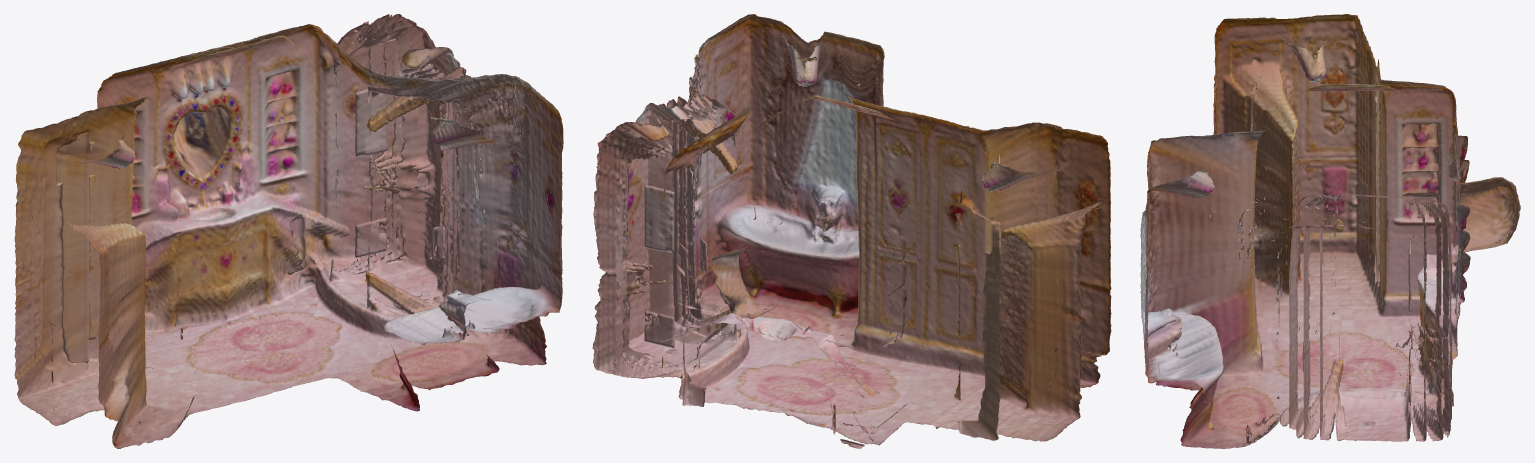
File: jewel-princess-bathroom-1-1-pano_collider.glb
The picture shows the model from 3 angles, left to right: view 1: azimuth 30°, elevation 25°; view 2: azimuth 150°, elevation 25°; view 3: azimuth 270°, elevation 25°; orthographic projection. The views are drawn at different scales.
Parts seen in each view (by area): view 1: world; view 2: world; view 3: world.
Boxes of the visible parts, x1=… form: world: x1=14, y1=14, x2=563, y2=448; world: x1=592, y1=14, x2=1111, y2=448; world: x1=1140, y1=14, x2=1520, y2=448.
Bounding box in the file's own units: 5.01 × 3.19 × 4.06.
